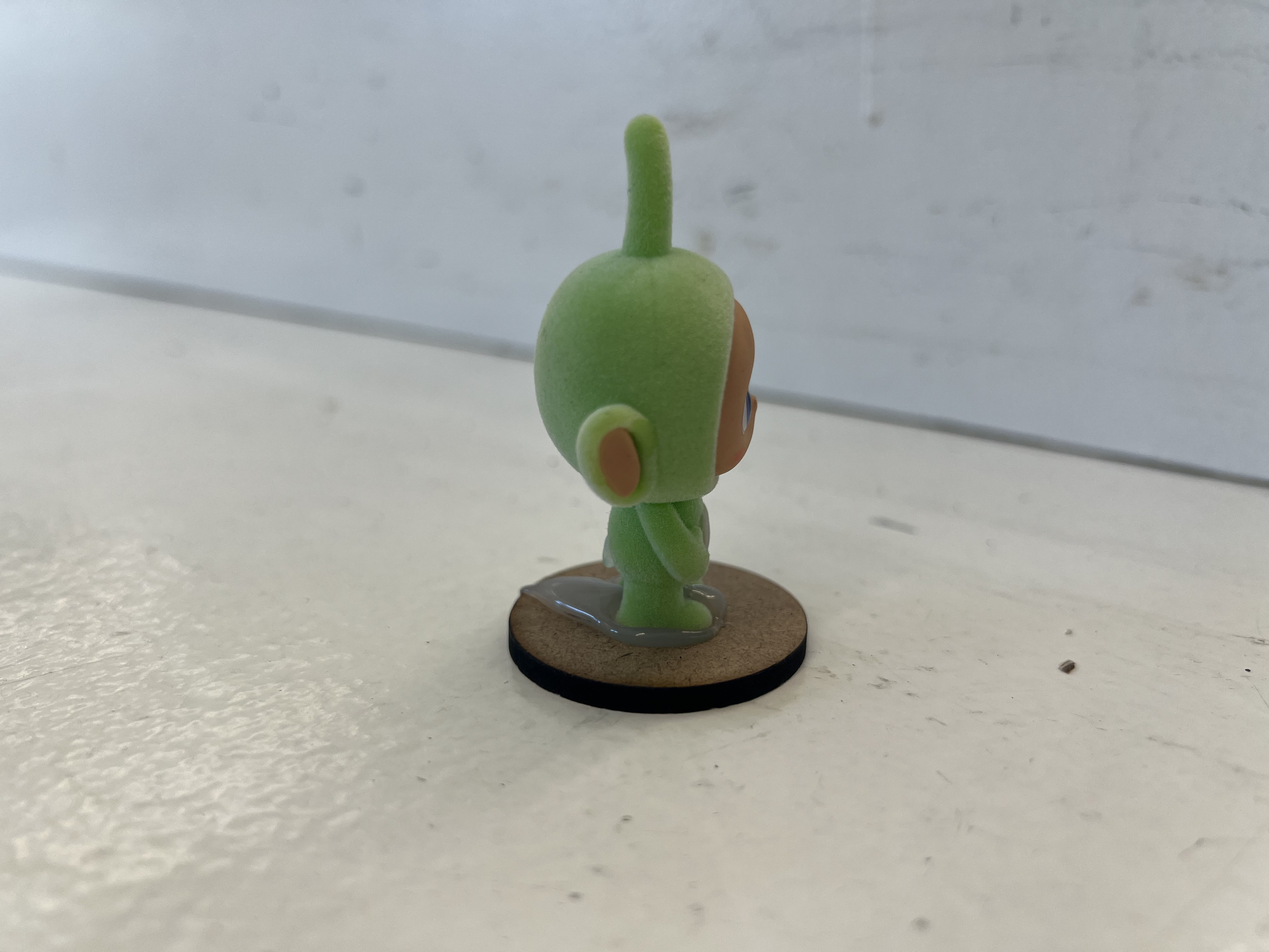teletubby: (534, 115, 758, 630)
